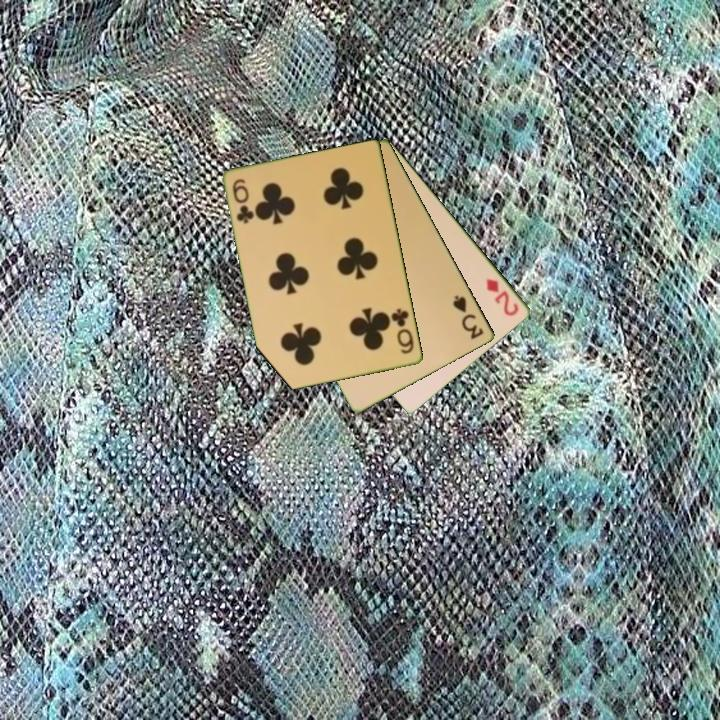2d: (483, 275, 522, 319)
3s: (450, 292, 487, 342)
6c: (388, 305, 417, 357), (229, 175, 257, 227)
